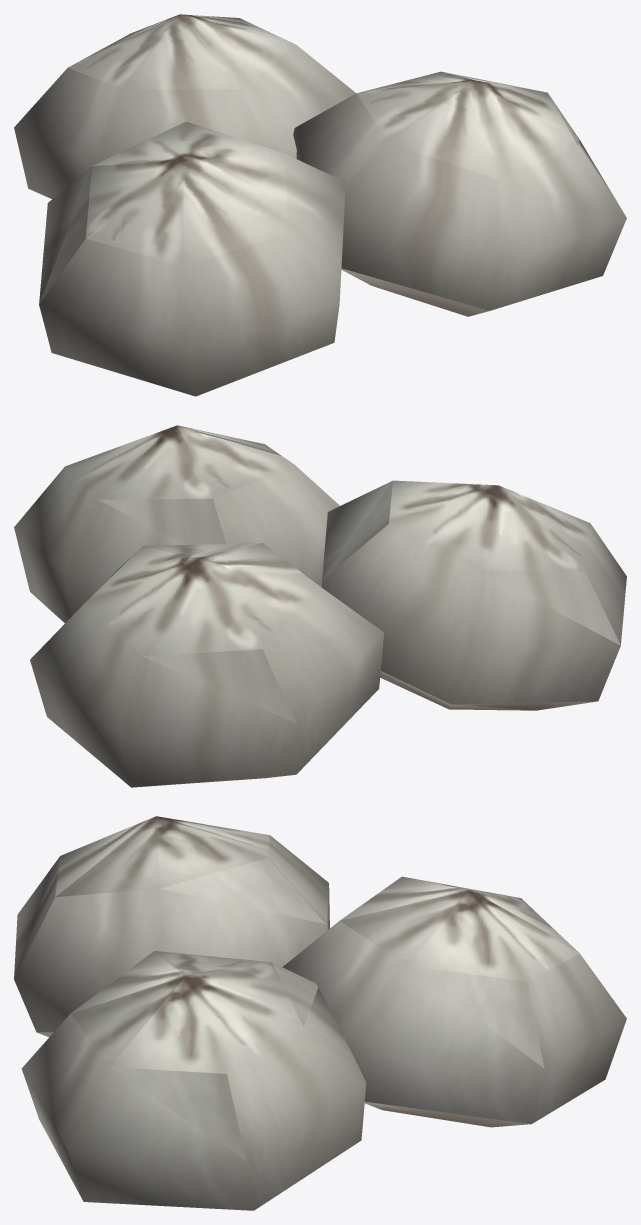
The model's file is Item0101.FBX.
3 renders of one model, top to bottom at view 1: azimuth 30°, elevation 25°; view 2: azimuth 150°, elevation 25°; view 3: azimuth 270°, elevation 25°, orthographic. The views are drawn at different scales.
Visible parts, largest first — view 1: Item103, Item104, Item0102; view 2: Item0102, Item103, Item104; view 3: Item104, Item0102, Item103.
Part boxes in pixels (x1,y1,x2,y2): Item103: (39,121,345,396); Item104: (293,71,626,316); Item0102: (14,14,356,198); Item0102: (30,543,384,787); Item103: (321,480,626,710); Item104: (14,425,339,622); Item104: (21,951,366,1210); Item0102: (282,876,626,1127); Item103: (14,816,329,1037).
Size of the model in its own units: 20.63 by 6.95 by 18.39.
1 material, 1 textured.
